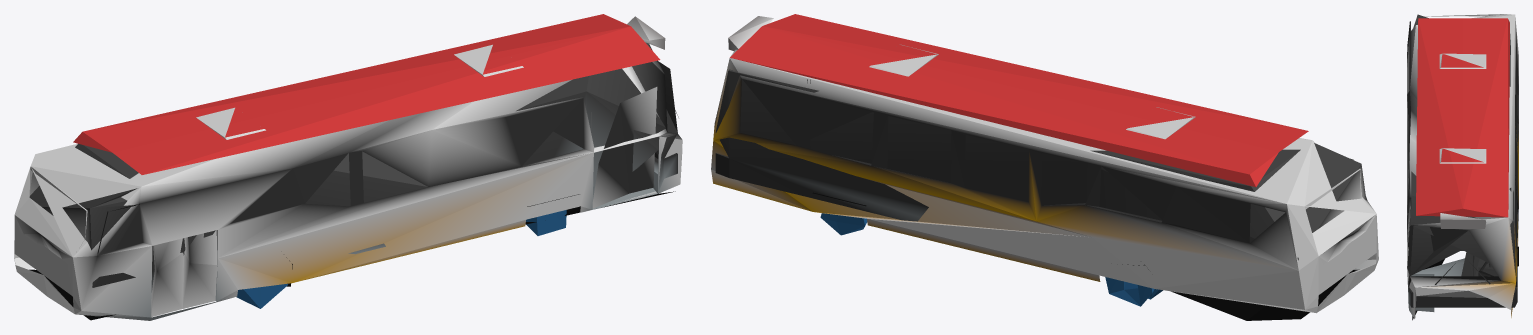
Rendered from town-bus.lod1.glb.
The picture shows the model from 3 angles, left to right: view 1: azimuth 30°, elevation 25°; view 2: azimuth 150°, elevation 25°; view 3: azimuth 270°, elevation 25°; orthographic projection. The views are drawn at different scales.
Visible parts, largest first — view 1: Object_2; view 2: Object_2; view 3: Object_2.
Boxes of the visible parts, x1=… form: Object_2: x1=14, y1=14, x2=682, y2=320; Object_2: x1=711, y1=14, x2=1378, y2=320; Object_2: x1=1407, y1=14, x2=1518, y2=320.
Bounding box in the file's own units: 11.41 × 2.8 × 2.38.
